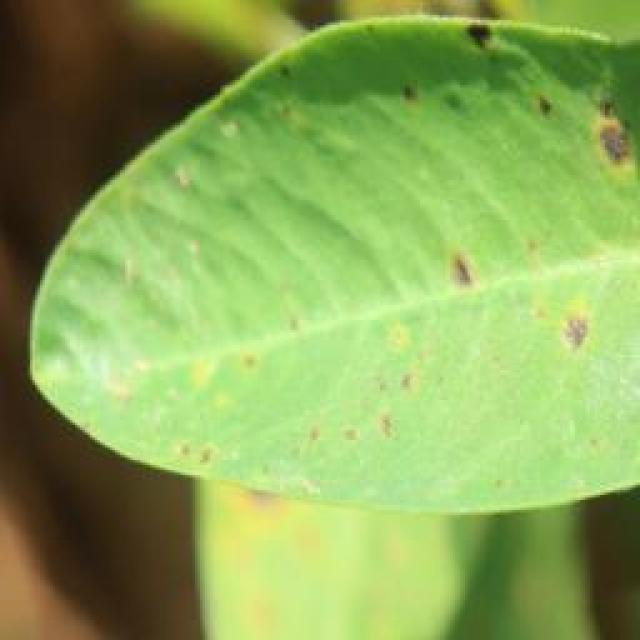Sigatoka: (173, 323, 266, 412), (276, 418, 436, 463), (149, 424, 246, 495), (154, 141, 225, 235), (430, 202, 490, 308), (369, 317, 437, 398), (524, 266, 598, 340), (489, 64, 574, 128), (576, 107, 640, 182), (368, 56, 442, 114), (440, 11, 507, 66), (168, 218, 214, 293)
